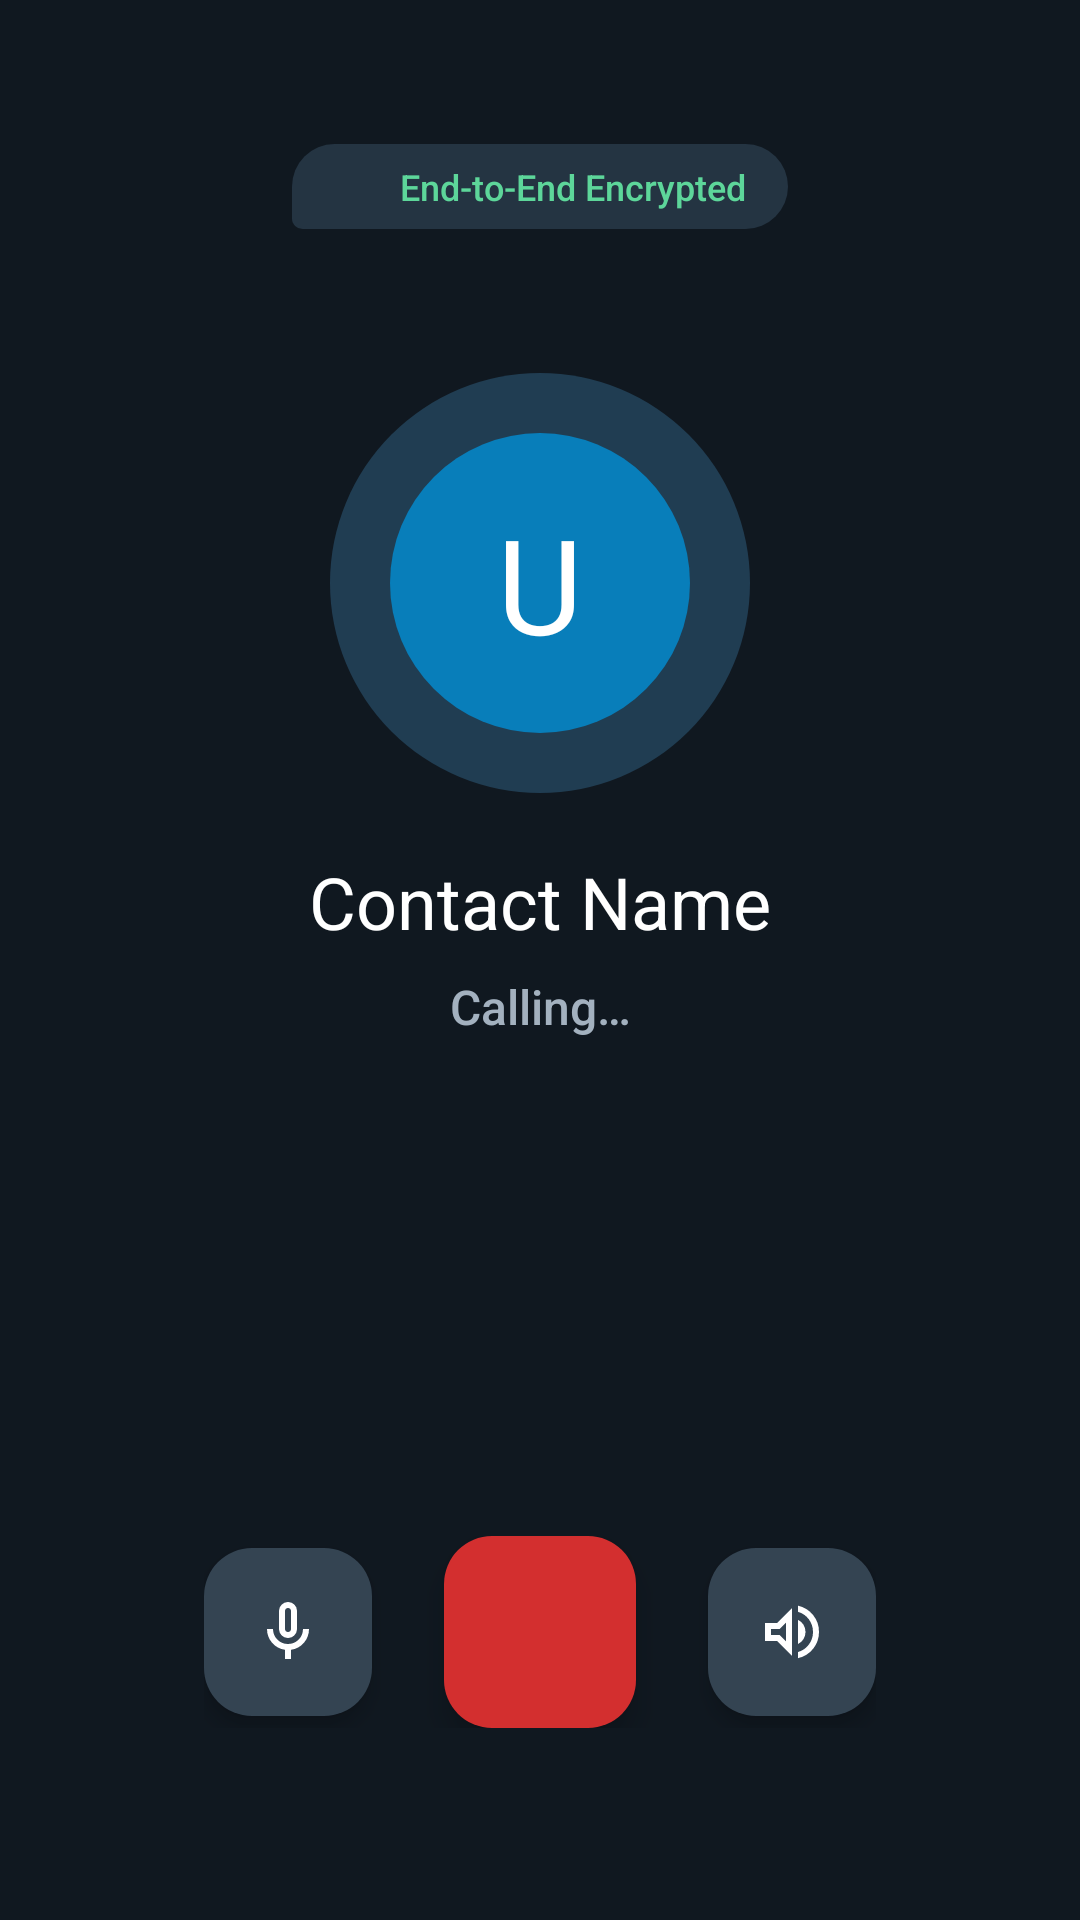

Where to tap for icons on this 1080×1920 app screen, as [x,y]:
Mute Audio: [288,1632]
Toggle Speaker: [792,1632]
